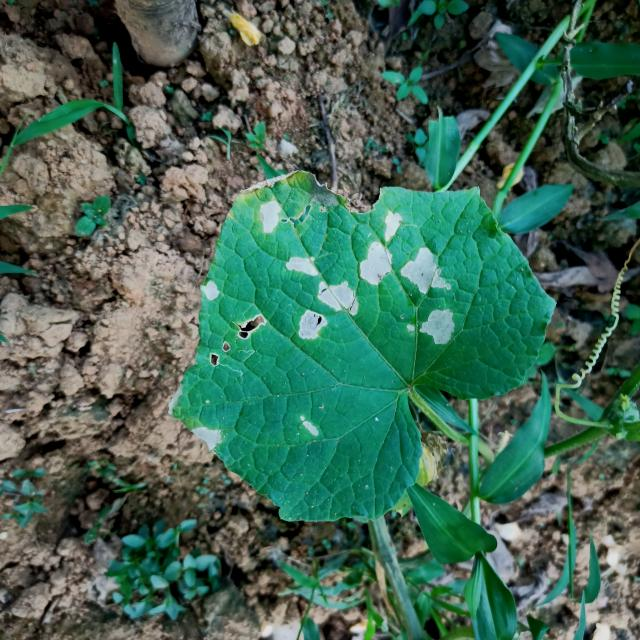disease_cucumber: (298, 280, 360, 341), (359, 209, 403, 286), (208, 312, 266, 369), (399, 246, 452, 297), (405, 308, 456, 346), (257, 200, 283, 236), (190, 425, 223, 451), (285, 255, 319, 279), (298, 415, 320, 438), (200, 280, 220, 302)
